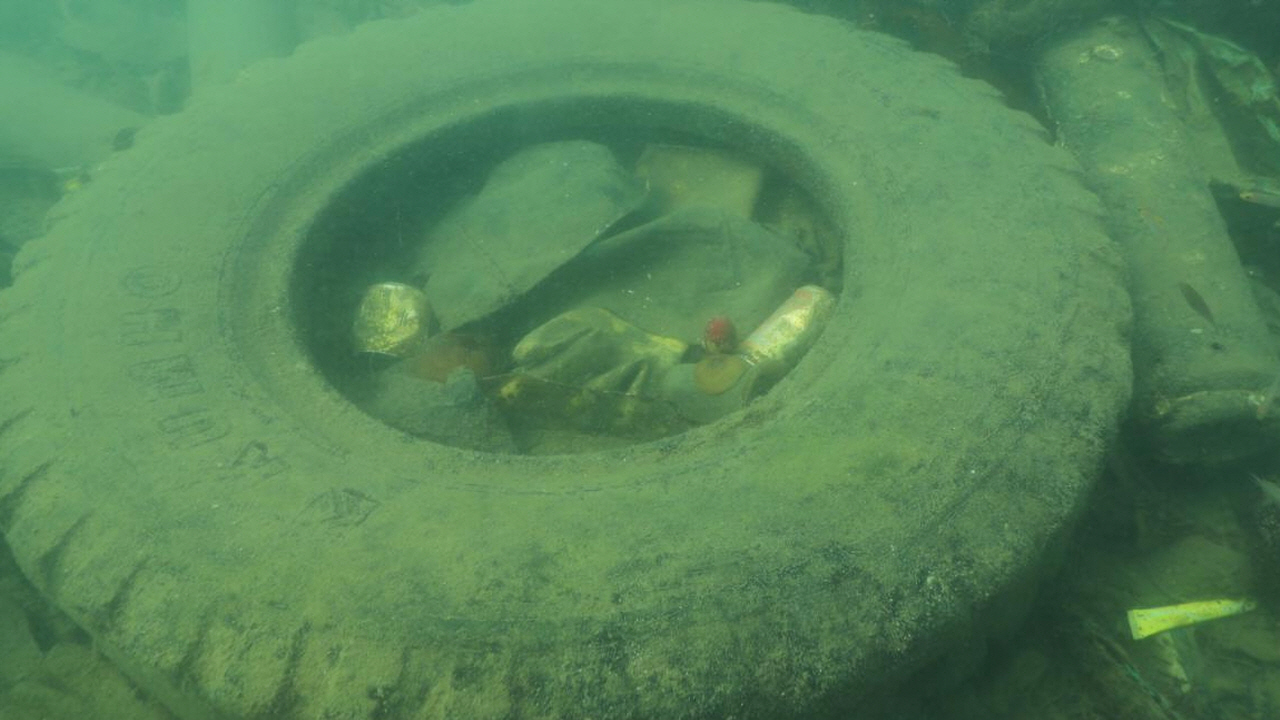eel fish trap: (1030, 11, 1279, 468)
tire: (0, 0, 1130, 719)
